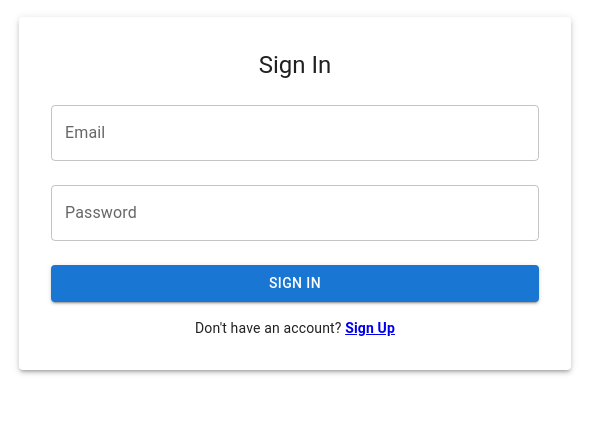
it: LoginPage › shows validation error when email is empty
Step 1. Click the button with test id "submit-button" → (295, 284), box [51,265,539,302]
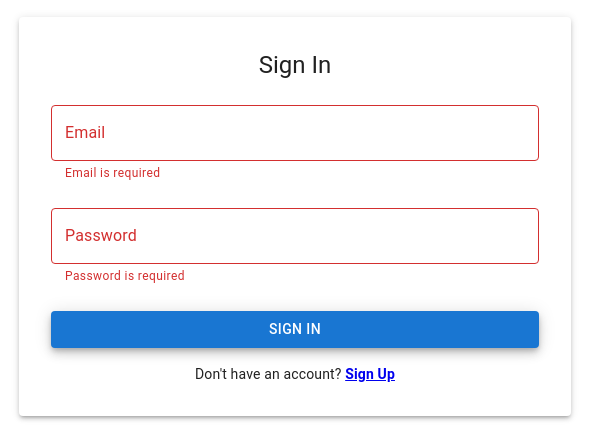
Now the text "Email is required" is shown, box [65,166,160,180]
